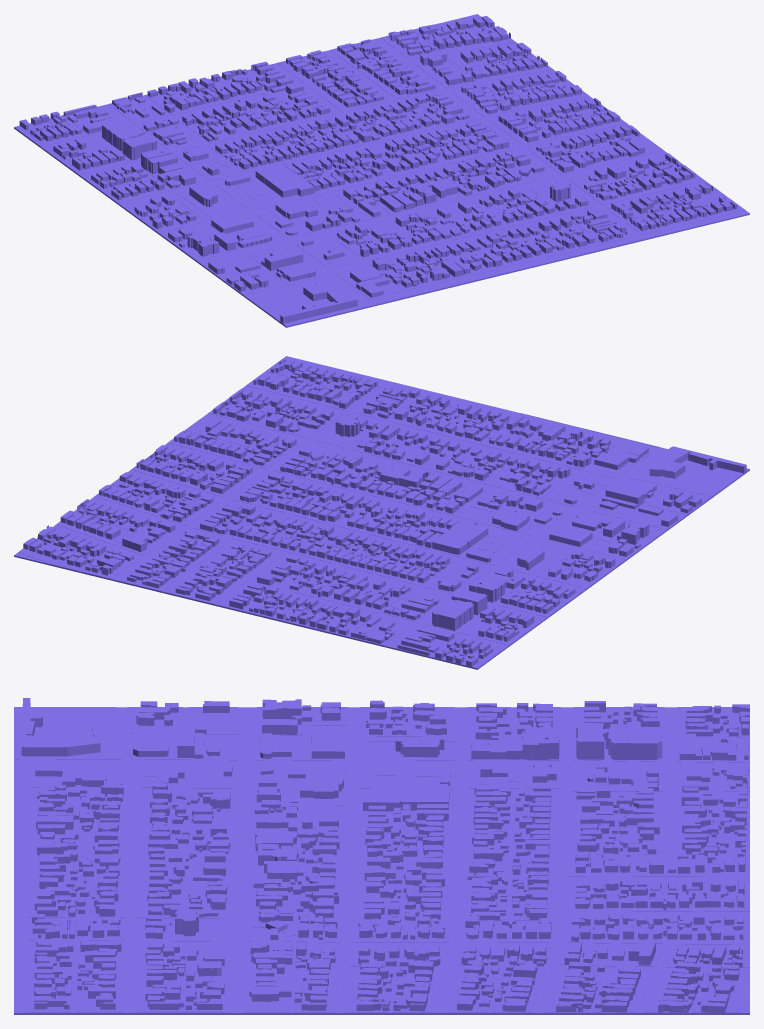
File: IIIIII.glb
The picture shows the model from 3 angles, top to bottom: view 1: azimuth 30°, elevation 25°; view 2: azimuth 150°, elevation 25°; view 3: azimuth 270°, elevation 25°; orthographic projection. The views are drawn at different scales.
Visible parts, largest first — view 1: block, blood, creep, road, other; view 2: block, blood, creep, road, other; view 3: block, blood, creep, road, other.
Part boxes in pixels (x1=…): block: x1=14, y1=17, x2=744, y2=326; blood: x1=112, y1=16, x2=736, y2=287; creep: x1=19, y1=90, x2=588, y2=291; road: x1=14, y1=14, x2=749, y2=327; other: x1=73, y1=99, x2=601, y2=323; block: x1=18, y1=359, x2=749, y2=668; blood: x1=23, y1=358, x2=610, y2=643; creep: x1=200, y1=415, x2=701, y2=666; road: x1=14, y1=356, x2=749, y2=669; other: x1=282, y1=415, x2=746, y2=650; block: x1=14, y1=707, x2=749, y2=1012; blood: x1=32, y1=765, x2=748, y2=1012; creep: x1=136, y1=700, x2=749, y2=939; road: x1=14, y1=707, x2=749, y2=1014; other: x1=21, y1=698, x2=742, y2=960.
Size of the model in its own units: 683 by 20.9 by 695.
